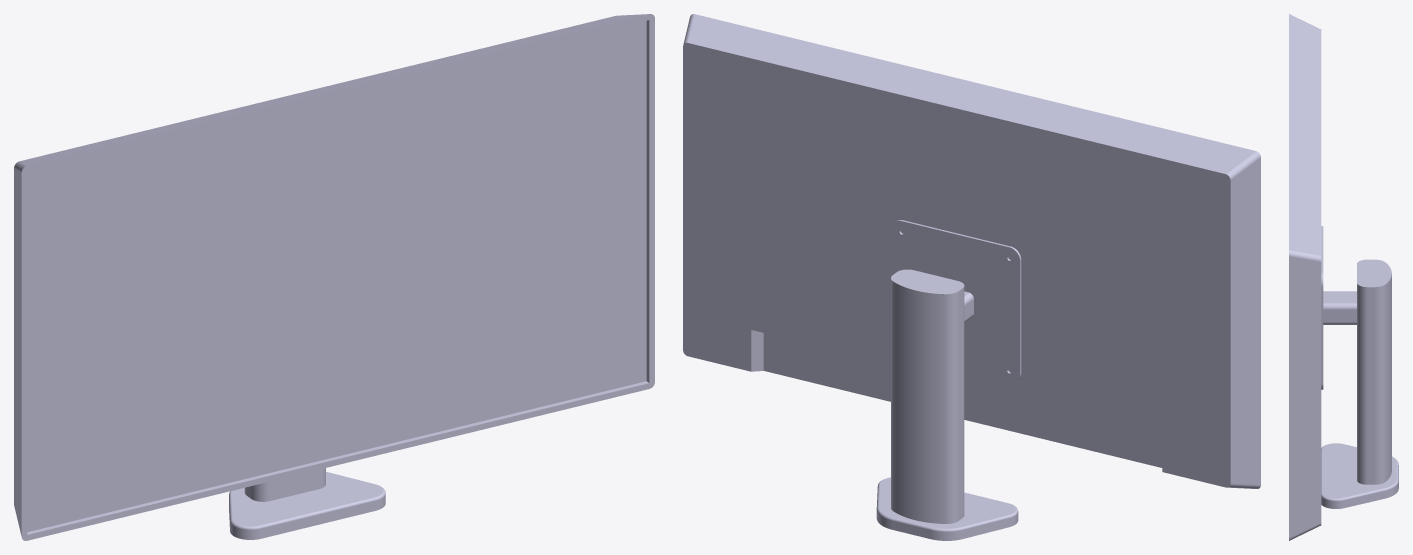
File: moniter.gltf
3 renders of one model, left to right at view 1: azimuth 30°, elevation 25°; view 2: azimuth 150°, elevation 25°; view 3: azimuth 270°, elevation 25°, orthographic. The views are drawn at different scales.
Visible parts, largest first — view 1: moniter_screen_clone, moniter_body_clone; view 2: moniter_body_clone; view 3: moniter_body_clone.
Boxes of the visible parts, x1=… form: moniter_screen_clone: x1=27, y1=20, x2=646, y2=531; moniter_body_clone: x1=14, y1=14, x2=654, y2=540; moniter_body_clone: x1=683, y1=14, x2=1260, y2=540; moniter_body_clone: x1=1289, y1=14, x2=1398, y2=540.
Size of the model in its own units: 0.5304 by 0.3597 by 0.1026.
